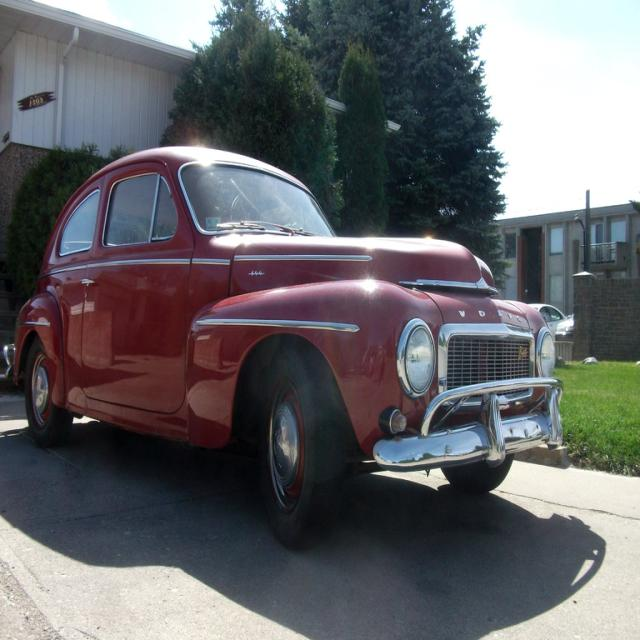car: (1, 144, 567, 548)
